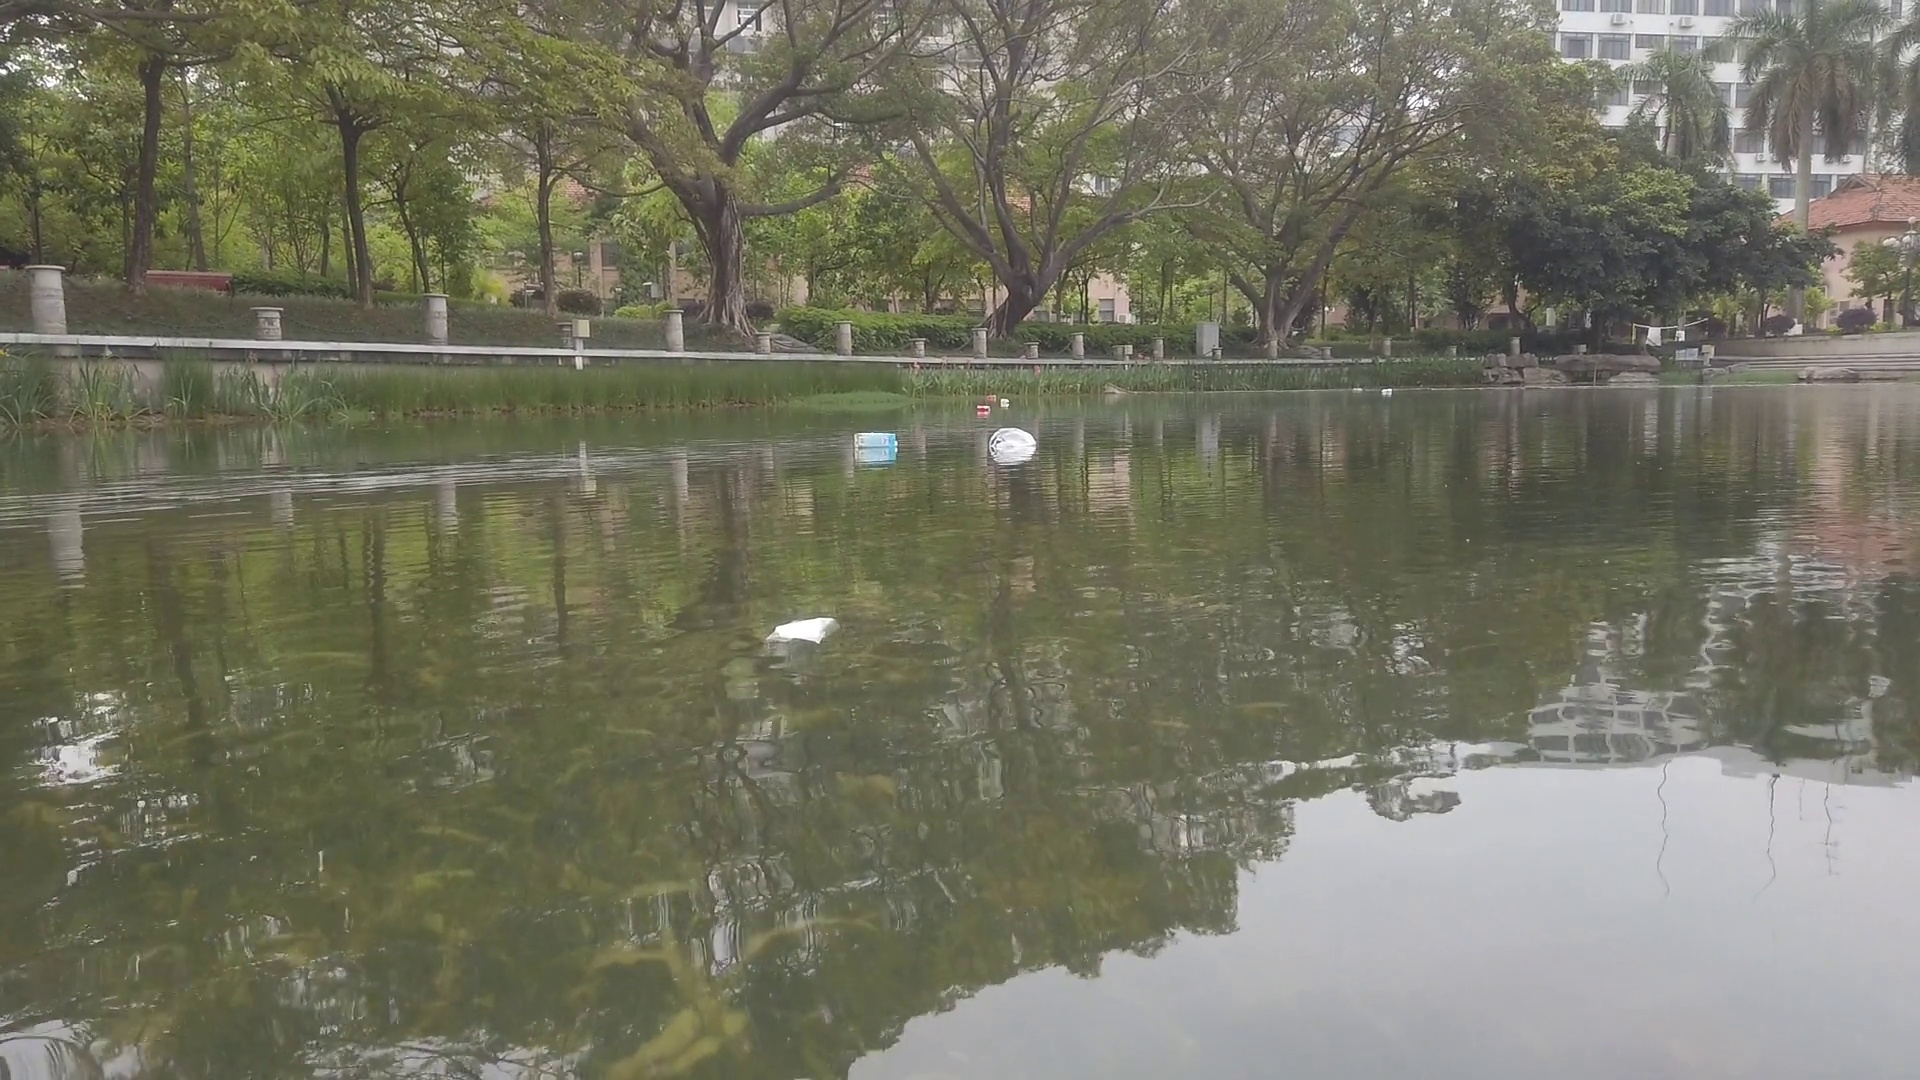bottle: (1382, 386, 1393, 396), (977, 406, 992, 413), (1353, 386, 1364, 392), (986, 396, 997, 400), (1000, 398, 1007, 404)
carton: (853, 431, 898, 448)
paper: (775, 617, 841, 645)
plastic: (986, 426, 1039, 450)
